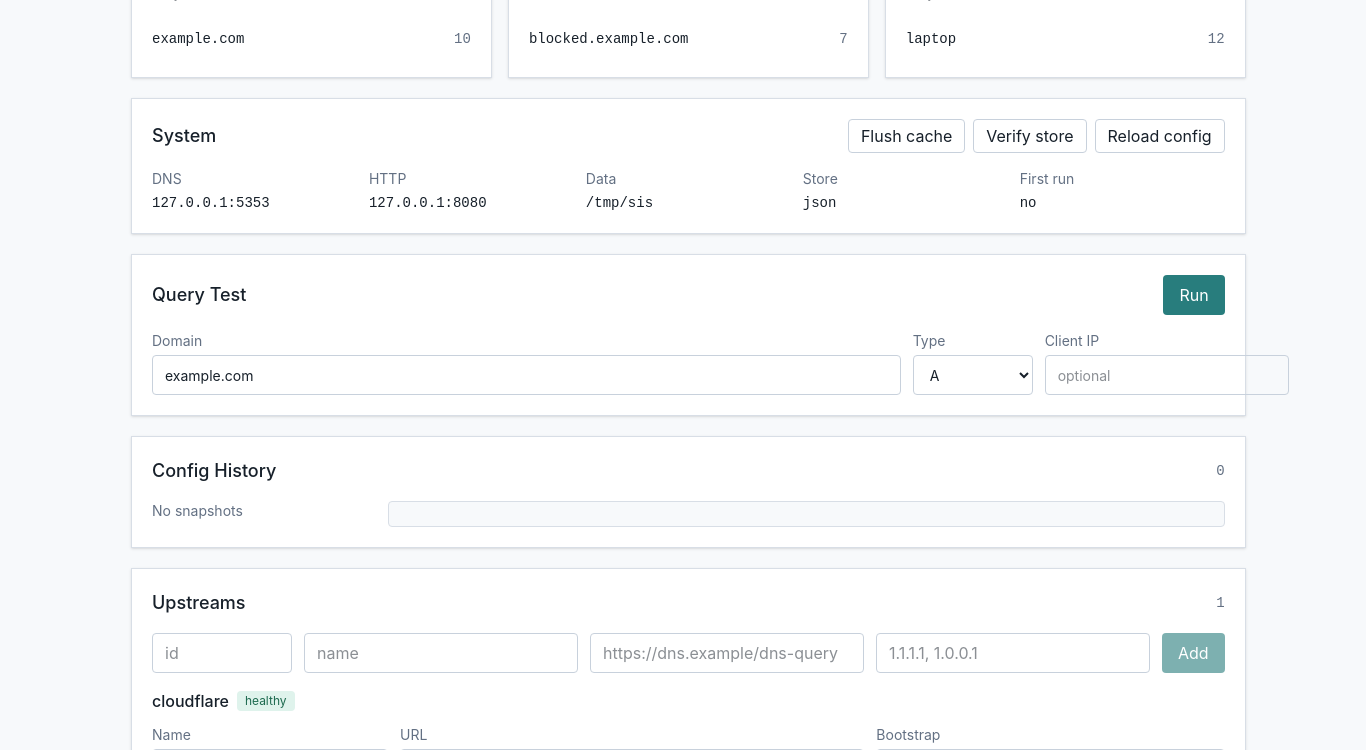
Scenario: App › submits query tests with the selected type and client IP
(page scrolled)
Expected: the form "Query Test" is shown, [131,254,1246,416]
Replace the text in the field labelled "Domain" with "blocked.example.com" at (526, 375), box [152,355,901,395]
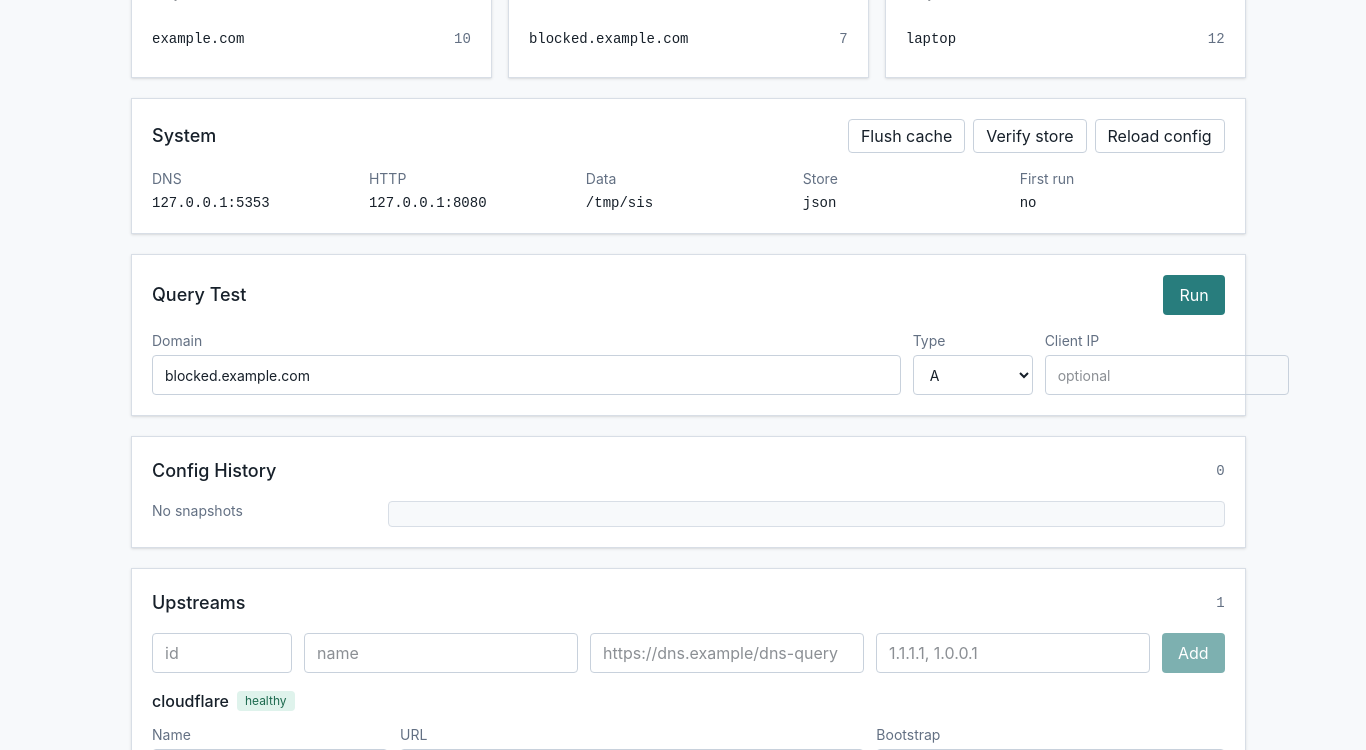
Select "AAAA" in the dropdown labelled "Type" at (973, 375), box [913,355,1033,395]
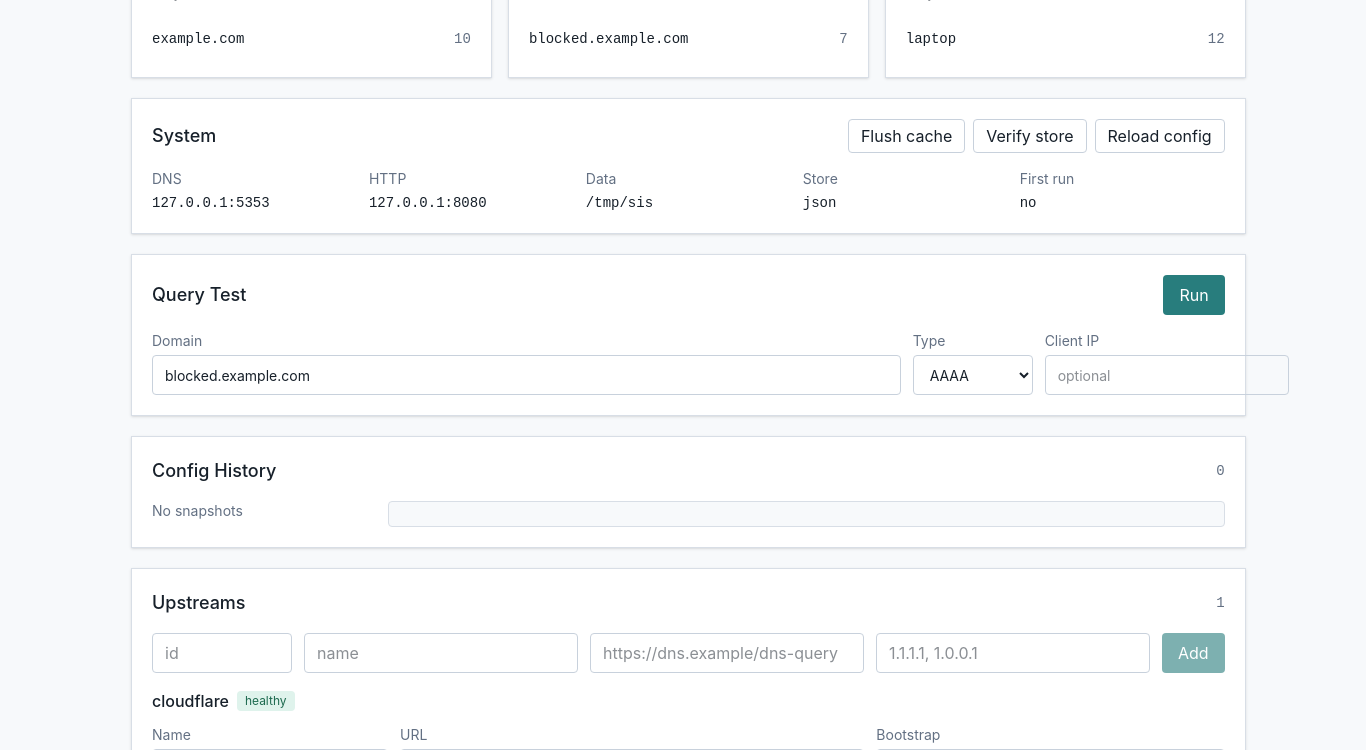
Type "192.0.2.10" into the field labelled "Client IP".
click(1167, 375); type("192.0.2.10")  # box [1045,355,1289,395]
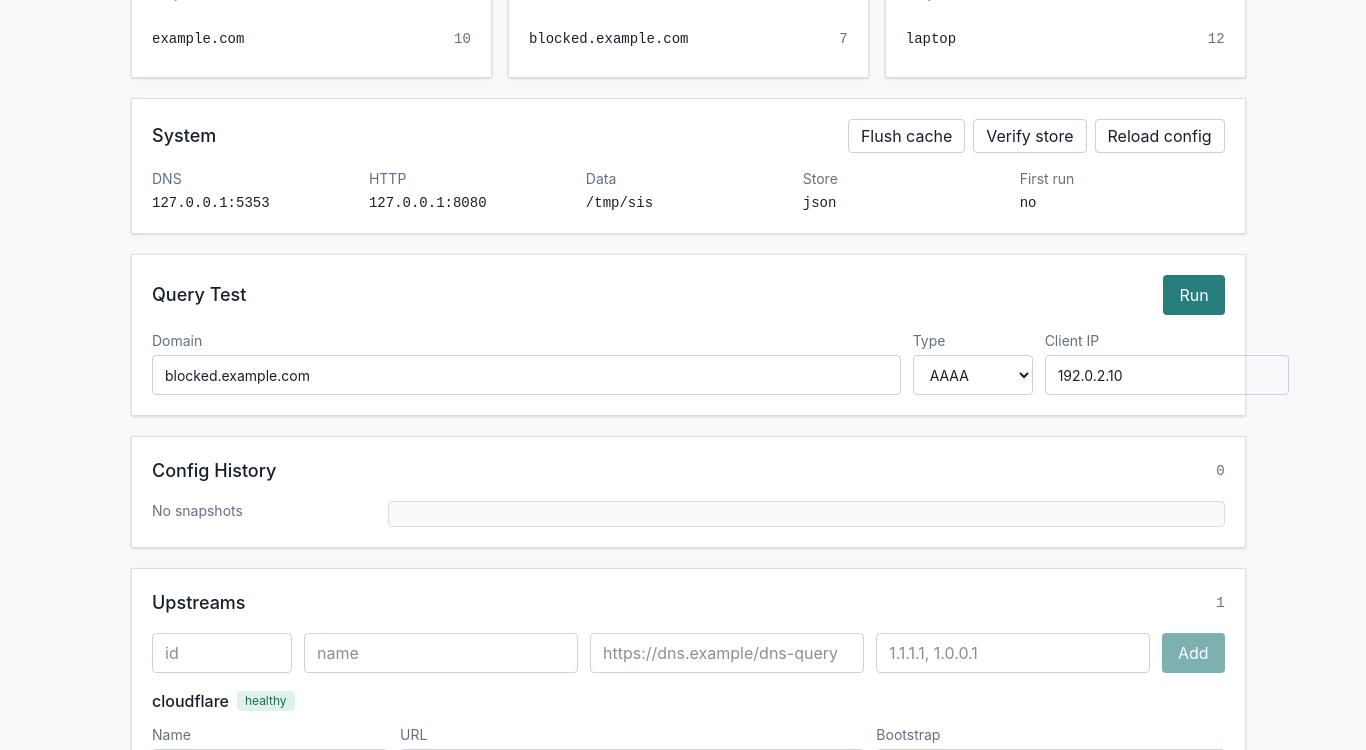
Click the button "Run".
click(1194, 295)  # box [1163,275,1225,315]
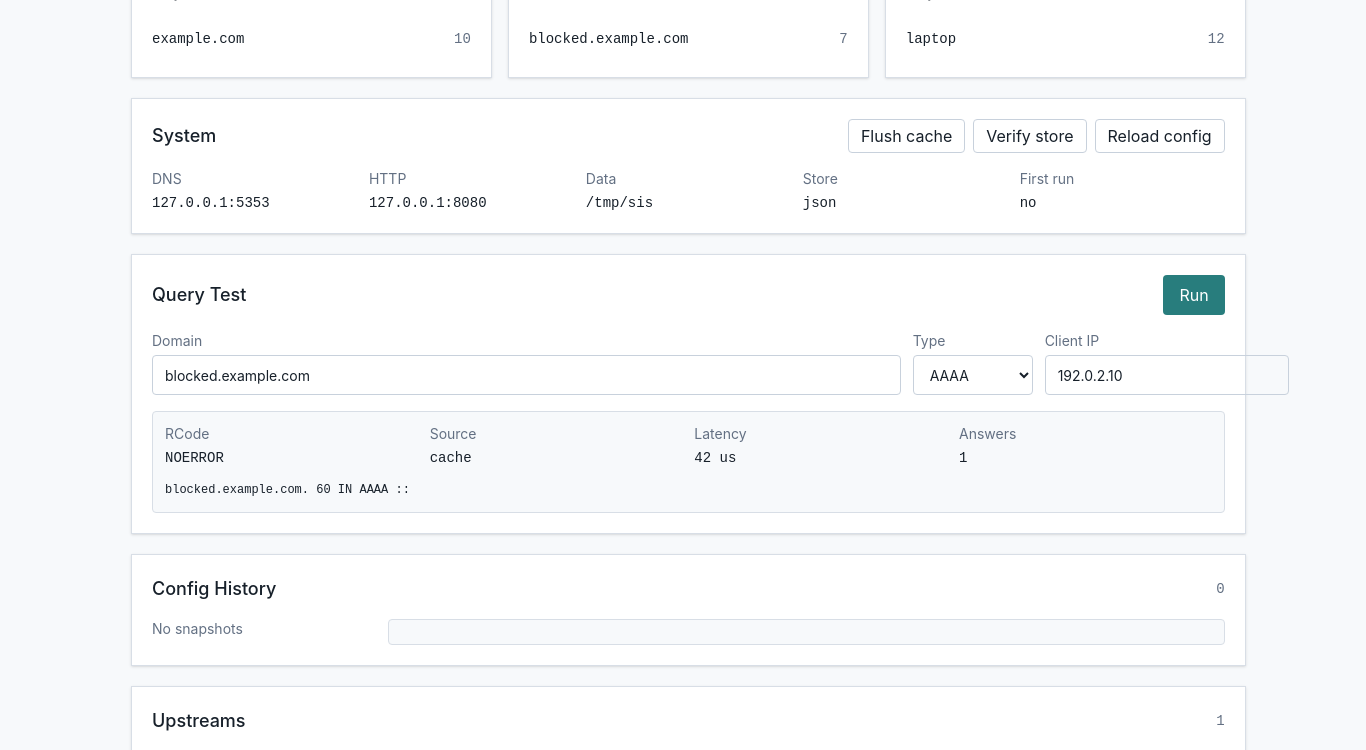
Result: the text "cache" is shown at [430,450,472,466]
Result: the text "blocked.example.com. 60 IN AAAA ::" is shown at [165,483,410,497]
